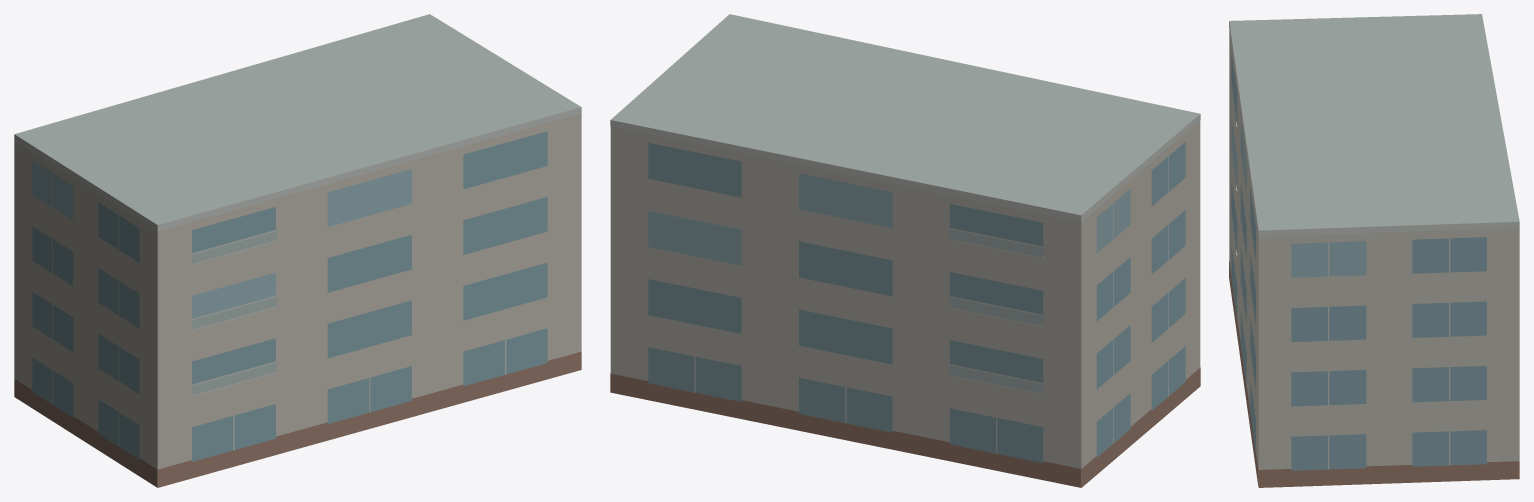
File: survey-upis-32905885.glb
The picture shows the model from 3 angles, left to right: view 1: azimuth 30°, elevation 25°; view 2: azimuth 150°, elevation 25°; view 3: azimuth 270°, elevation 25°; orthographic projection. The views are drawn at different scales.
Parts seen in each view (by area): view 1: survey-upis-32905885.tmp; view 2: survey-upis-32905885.tmp; view 3: survey-upis-32905885.tmp.
Boxes of the visible parts, x1,y1,x2,y2 form: survey-upis-32905885.tmp: (14,14,581,487); survey-upis-32905885.tmp: (610,14,1200,487); survey-upis-32905885.tmp: (1229,14,1519,487).
Size of the model in its own units: 18.51 by 10.25 by 10.5.
